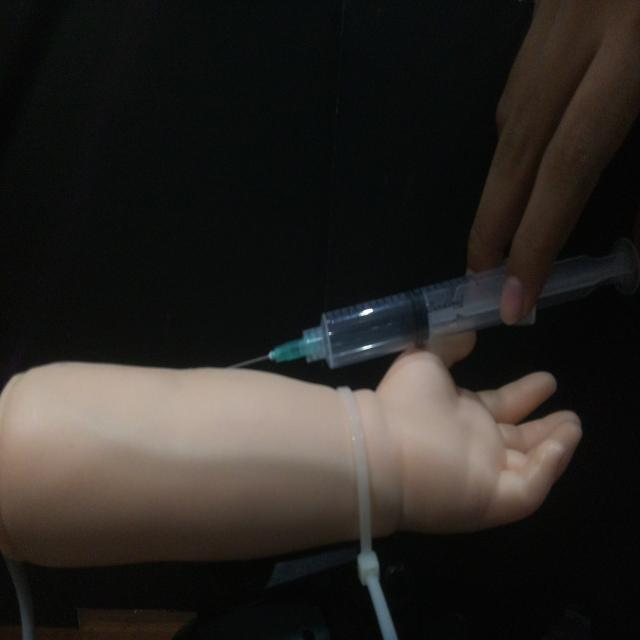15deg: (226, 235, 637, 374)
